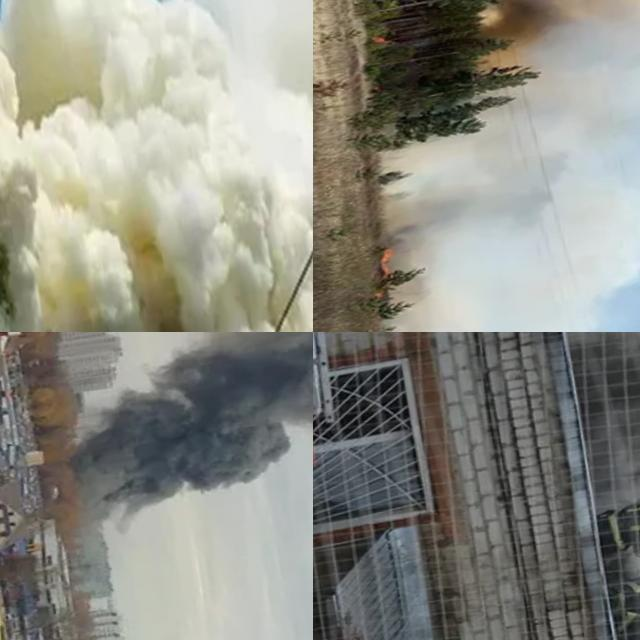smoke: (0, 0, 313, 332), (39, 332, 313, 543), (366, 137, 602, 307), (545, 332, 640, 600)
